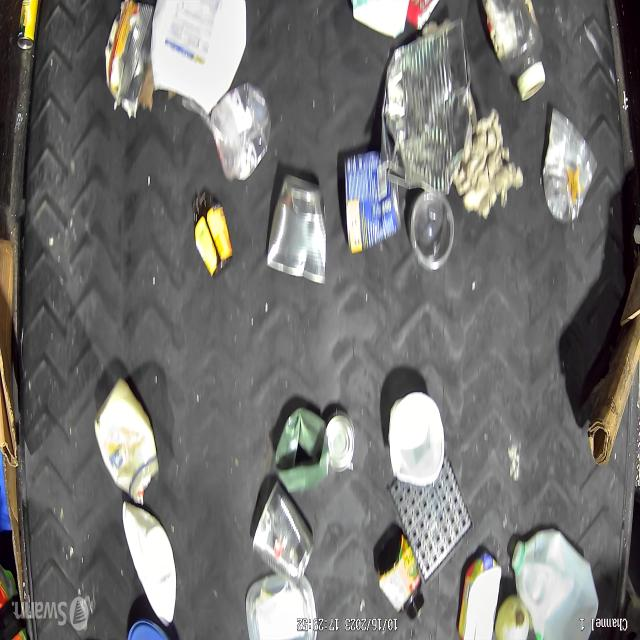can: (386, 37, 477, 194), (335, 144, 405, 256), (269, 172, 331, 290), (248, 468, 312, 579)
milk_jug: (147, 0, 255, 111), (511, 534, 602, 640)
